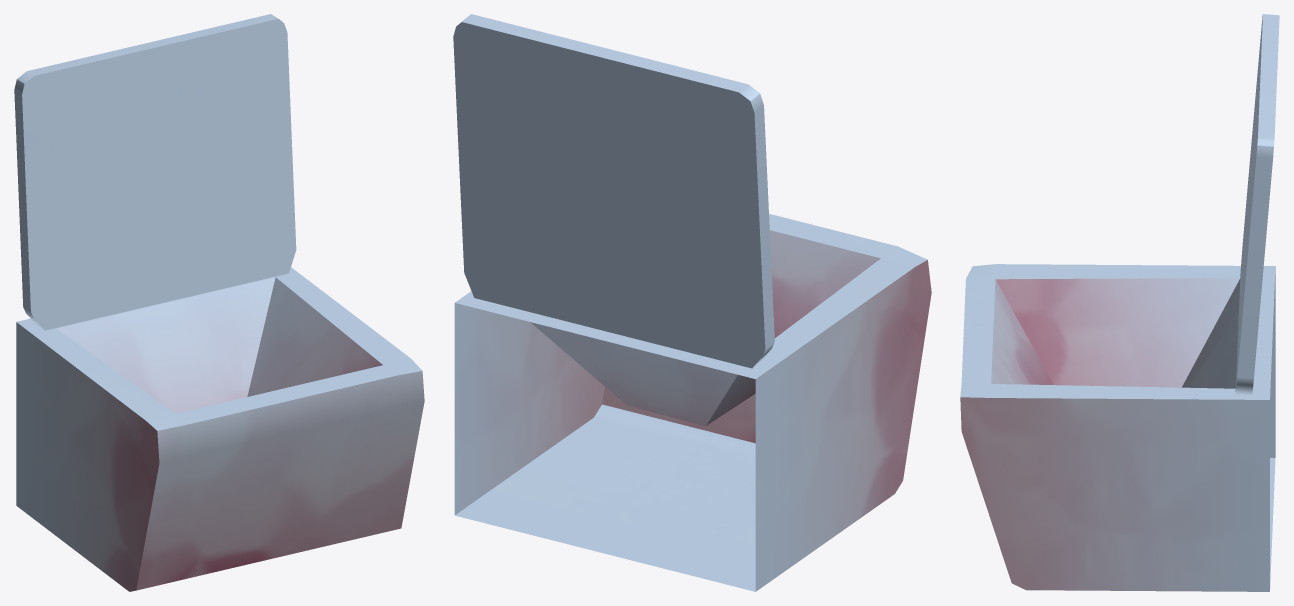
Rendered from Toilet_Open.fbx.
The picture shows the model from 3 angles, left to right: view 1: azimuth 30°, elevation 25°; view 2: azimuth 150°, elevation 25°; view 3: azimuth 270°, elevation 25°; orthographic projection. The views are drawn at different scales.
Parts seen in each view (by area): view 1: polySurface1.001; view 2: polySurface1.001; view 3: polySurface1.001.
Boxes of the visible parts, <box> form: polySurface1.001: <box>14,14,424,591</box>; polySurface1.001: <box>453,14,931,591</box>; polySurface1.001: <box>960,14,1279,591</box>.
Bounding box in the file's own units: 46.97 × 72.46 × 46.57.
